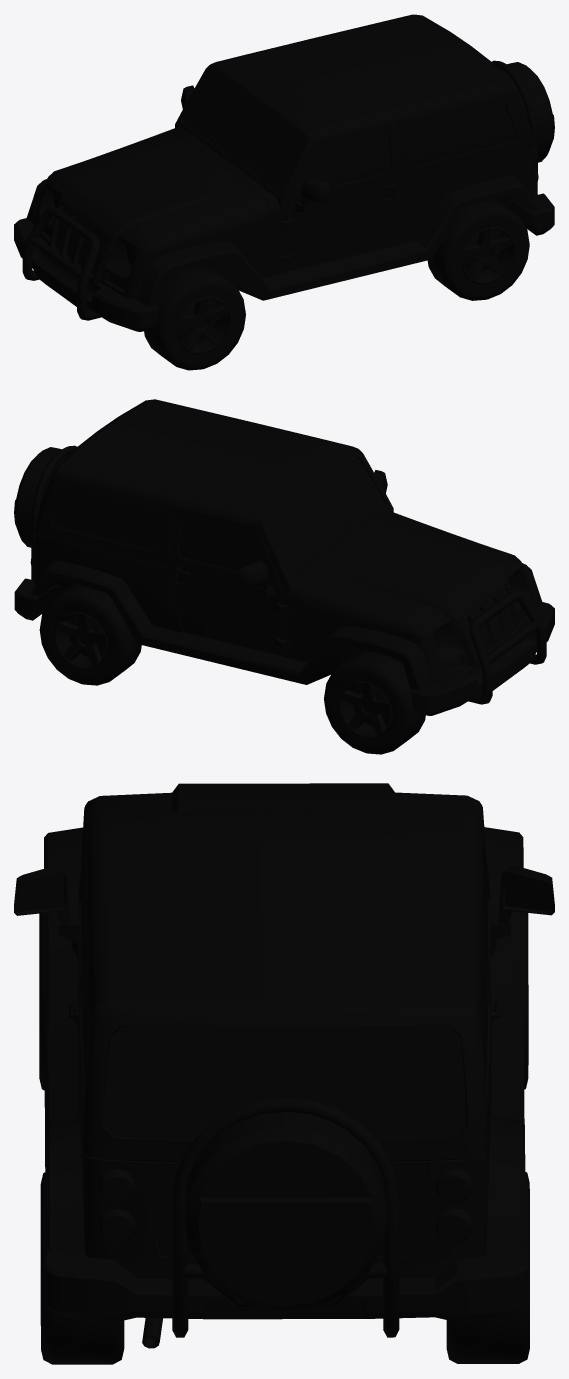
Rendered from car4.obj.
3 views of the same model, one above another, from view 1: azimuth 30°, elevation 25°; view 2: azimuth 150°, elevation 25°; view 3: azimuth 270°, elevation 25° (orthographic). The views are drawn at different scales.
Parts seen in each view (by area): view 1: bake; view 2: bake; view 3: bake.
Part boxes in pixels (box(x1,y1,x2,y2)): bake: box(14, 14, 554, 370); bake: box(14, 399, 554, 754); bake: box(14, 783, 554, 1364).
Size of the model in its own units: 3.94 by 1.57 by 1.96.
1 material, 1 textured.
